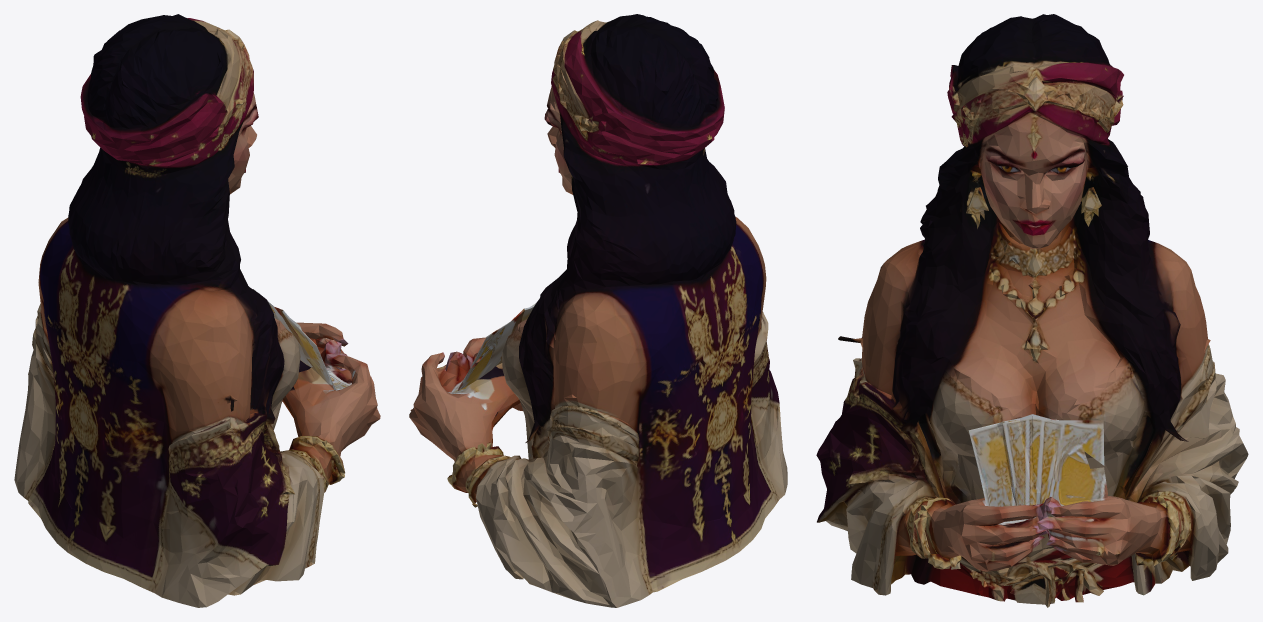
The model's file is fantasy+fortune+teller+3d+model.glb.
3 views of the same model, side by side, from view 1: azimuth 30°, elevation 25°; view 2: azimuth 150°, elevation 25°; view 3: azimuth 270°, elevation 25° (orthographic). The views are drawn at different scales.
Visible parts, largest first — view 1: tripo_node_ed062a22-a1a7-48ae-ae52-24b4a08d8604; view 2: tripo_node_ed062a22-a1a7-48ae-ae52-24b4a08d8604; view 3: tripo_node_ed062a22-a1a7-48ae-ae52-24b4a08d8604.
Part boxes in pixels (x1=…): tripo_node_ed062a22-a1a7-48ae-ae52-24b4a08d8604: x1=14, y1=14, x2=380, y2=607; tripo_node_ed062a22-a1a7-48ae-ae52-24b4a08d8604: x1=409, y1=14, x2=787, y2=607; tripo_node_ed062a22-a1a7-48ae-ae52-24b4a08d8604: x1=816, y1=14, x2=1248, y2=607.
Size of the model in its own units: 0.6097 by 1 by 0.7338.
1 material, 1 textured.
